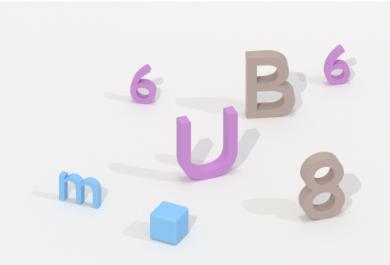0-KhoiVuong: (147, 199, 192, 249)
6: (320, 42, 353, 90), (127, 61, 159, 106)
8: (295, 149, 349, 224)
B: (242, 47, 298, 121)
U: (172, 104, 241, 184)
m: (55, 167, 105, 211)
